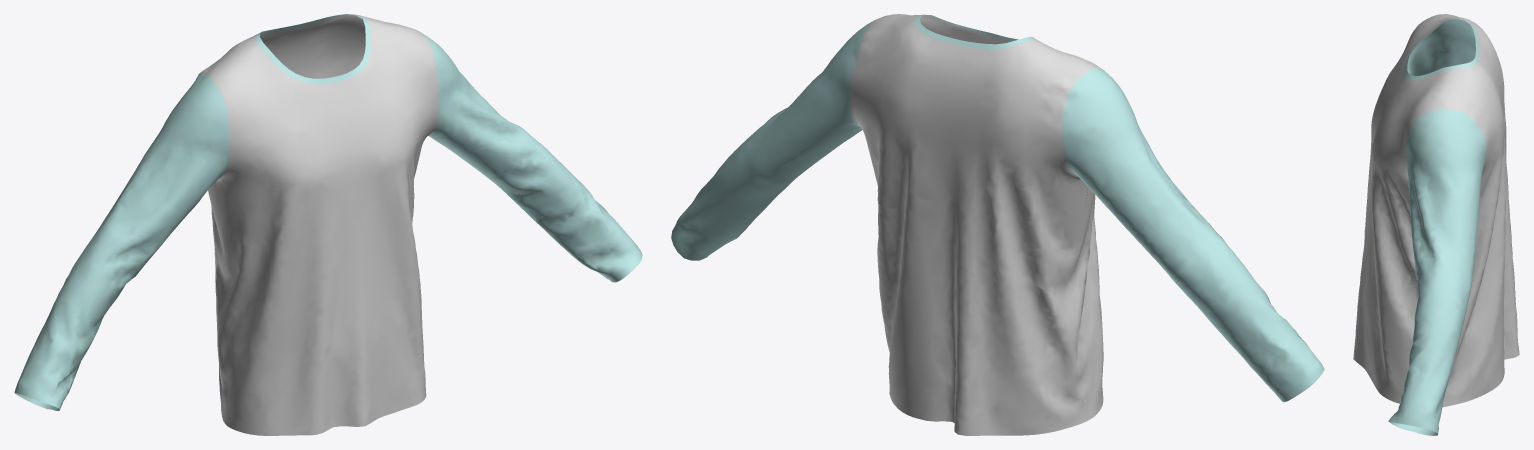
3 renders of one model, left to right at view 1: azimuth 30°, elevation 25°; view 2: azimuth 150°, elevation 25°; view 3: azimuth 270°, elevation 25°, orthographic. The views are drawn at different scales.
Parts seen in each view (by area): view 1: Object_4, Object_8, Object_7, Object_2, Object_3; view 2: Object_2, Object_8, Object_7, Object_4, Object_3; view 3: Object_7, Object_4, Object_2, Object_8, Object_3, Object_5.
Boxes of the visible parts, x1=… form: Object_4: x1=208, y1=19, x2=438, y2=435; Object_8: x1=16, y1=74, x2=229, y2=404; Object_7: x1=420, y1=32, x2=639, y2=278; Object_2: x1=199, y1=14, x2=404, y2=422; Object_3: x1=254, y1=14, x2=370, y2=84; Object_2: x1=850, y1=15, x2=1087, y2=435; Object_8: x1=1062, y1=68, x2=1321, y2=397; Object_7: x1=673, y1=21, x2=873, y2=257; Object_4: x1=871, y1=14, x2=1103, y2=420; Object_3: x1=915, y1=14, x2=1036, y2=49; Object_7: x1=1392, y1=109, x2=1486, y2=430; Object_4: x1=1353, y1=14, x2=1452, y2=403; Object_2: x1=1442, y1=15, x2=1519, y2=407; Object_8: x1=1407, y1=18, x2=1475, y2=75; Object_3: x1=1405, y1=18, x2=1478, y2=79; Object_5: x1=1388, y1=417, x2=1438, y2=435.
Size of the model in its own units: 1186 by 675 by 309.
